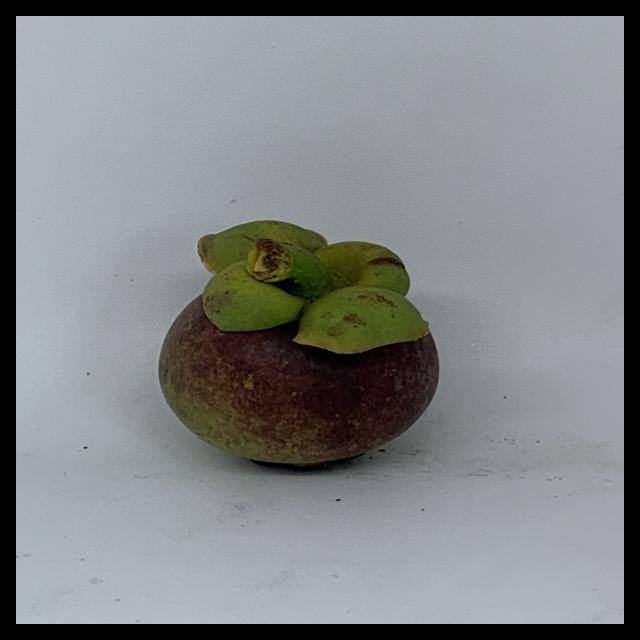mangosteen: (157, 214, 469, 477)
